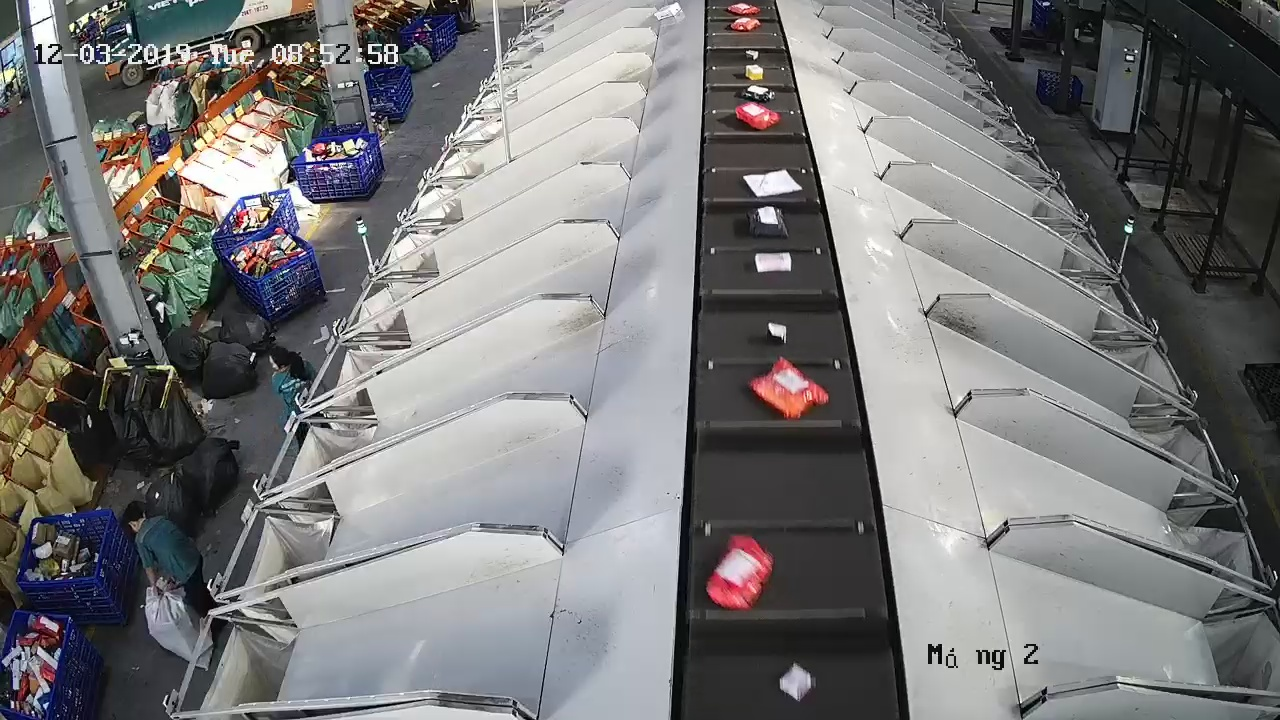parcel: (704, 532, 777, 612), (746, 354, 830, 421), (741, 167, 804, 198), (777, 659, 817, 704), (745, 204, 791, 239), (735, 101, 781, 131), (754, 250, 793, 274), (765, 320, 788, 346)
